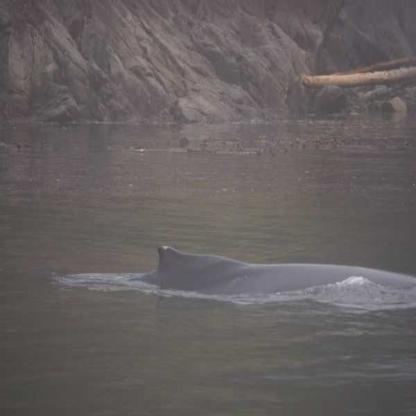dolphin-whale: (53, 222, 415, 320)
